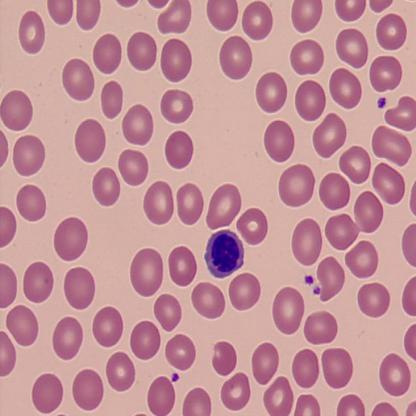NRC: (204, 227, 247, 280)
